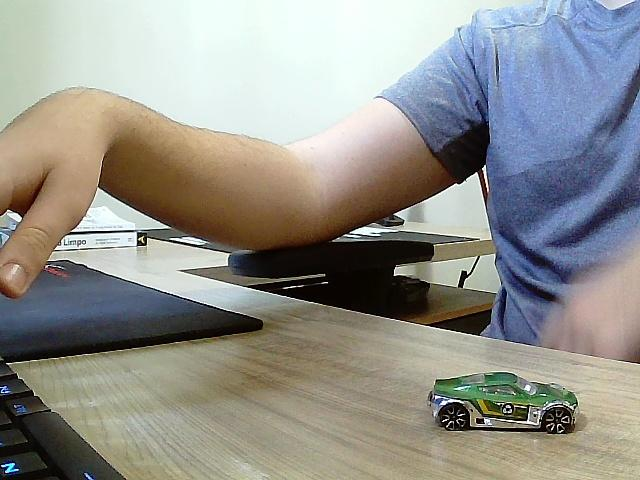Carro: (430, 373, 579, 436)
